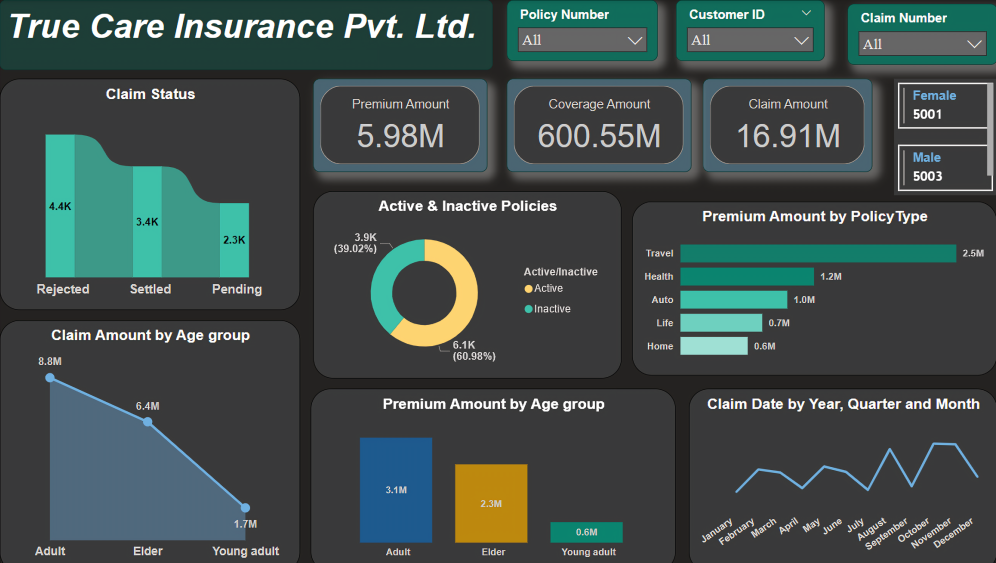

Layout of this report page (visuals, bound fields, positions):
{"tool":"powerbi","page":{"name":"main dashboard","canvas":[1280,720],"ordinal":0},"visuals":[{"type":"textbox","box":[0,0,621.3,87.8],"z":0},{"type":"slicer","fields":{"Values":["InsuranceData.CustomerID"]},"box":[852.3,0,187.1,76.4],"z":1000},{"type":"slicer","fields":{"Values":["InsuranceData.PolicyNumber"]},"box":[639.2,0,190.3,76.4],"z":2000},{"type":"slicer","fields":{"Values":["InsuranceData.ClaimNumber"]},"box":[1068.6,4.9,188.7,76.4],"z":3000},{"type":"cardVisual","fields":{"Data":["Sum(InsuranceData.PremiumAmount)"]},"box":[395.3,99.2,219.6,117.1],"z":4000},{"type":"cardVisual","fields":{"Data":["Sum(InsuranceData.ClaimAmount)"]},"box":[886.5,99.2,213.1,117.1],"z":5000},{"type":"cardVisual","fields":{"Data":["Sum(InsuranceData.CoverageAmount)"]},"box":[639.2,99.2,232.6,117.1],"z":6000},{"type":"multiRowCard","fields":{"Values":["InsuranceData.Gender","CountNonNull(InsuranceData.Gender)"]},"box":[1127.2,99.2,130.1,146.4],"z":7000},{"type":"ribbonChart","title":"Claim Status","fields":{"Category":["InsuranceData.ClaimStatus"],"Y":["CountNonNull(InsuranceData.ClaimStatus)"]},"box":[0,99.2,379,291.2],"z":8000},{"type":"barChart","title":"Premium Amount by PolicyType","fields":{"Category":["InsuranceData.PolicyType"],"Y":["Sum(InsuranceData.PremiumAmount)"]},"box":[797,253.7,460.3,219.6],"z":9000},{"type":"areaChart","fields":{"Category":["InsuranceData.Age group "],"Y":["Sum(InsuranceData.ClaimAmount)"]},"box":[0,403.4,379,317.2],"z":10000},{"type":"donutChart","title":"Active & Inactive Policies","fields":{"Category":["InsuranceData.Active/Inactive"],"Series":["InsuranceData.Active/Inactive"],"Y":["CountNonNull(InsuranceData.Active/Inactive)"]},"box":[395.3,240.7,388.7,235.8],"z":11000},{"type":"lineChart","title":"Claim Date by Year, Quarter and Month","fields":{"Category":["InsuranceData.PolicyStartDate.Variation.Date Hierarchy.Year","InsuranceData.PolicyStartDate.Variation.Date Hierarchy.Quarter","InsuranceData.PolicyStartDate.Variation.Date Hierarchy.Month","InsuranceData.PolicyStartDate.Variation.Date Hierarchy.Day"],"Y":["CountNonNull(InsuranceData.ClaimDate)"]},"box":[868.6,489.6,388.7,231],"z":12000},{"type":"columnChart","title":"Premium Amount by Age group ","fields":{"Series":["InsuranceData.Age group "],"Category":["InsuranceData.Age group "],"Y":["Sum(InsuranceData.PremiumAmount)"]},"box":[392,489.6,460.3,231],"z":13000}]}

Visuals, with their boxes in screenshot pixels (x1, y1, x2, y2), scaled from the page's 1280x720 canvas onto the 996x563 screenshot:
textbox: <bbox>0, 0, 483, 69</bbox>
slicer - InsuranceData.CustomerID: <bbox>663, 0, 809, 60</bbox>
slicer - InsuranceData.PolicyNumber: <bbox>497, 0, 645, 60</bbox>
slicer - InsuranceData.ClaimNumber: <bbox>832, 4, 978, 64</bbox>
cardVisual - Sum(InsuranceData.PremiumAmount): <bbox>308, 78, 478, 169</bbox>
cardVisual - Sum(InsuranceData.ClaimAmount): <bbox>690, 78, 856, 169</bbox>
cardVisual - Sum(InsuranceData.CoverageAmount): <bbox>497, 78, 678, 169</bbox>
multiRowCard - InsuranceData.Gender x CountNonNull(InsuranceData.Gender): <bbox>877, 78, 978, 192</bbox>
"Claim Status" ribbonChart: <bbox>0, 78, 295, 305</bbox>
"Premium Amount by PolicyType" barChart: <bbox>620, 198, 978, 370</bbox>
areaChart - InsuranceData.Age group  x Sum(InsuranceData.ClaimAmount): <bbox>0, 315, 295, 562</bbox>
"Active & Inactive Policies" donutChart: <bbox>308, 188, 610, 373</bbox>
"Claim Date by Year, Quarter and Month" lineChart: <bbox>676, 383, 978, 562</bbox>
"Premium Amount by Age group " columnChart: <bbox>305, 383, 663, 562</bbox>
